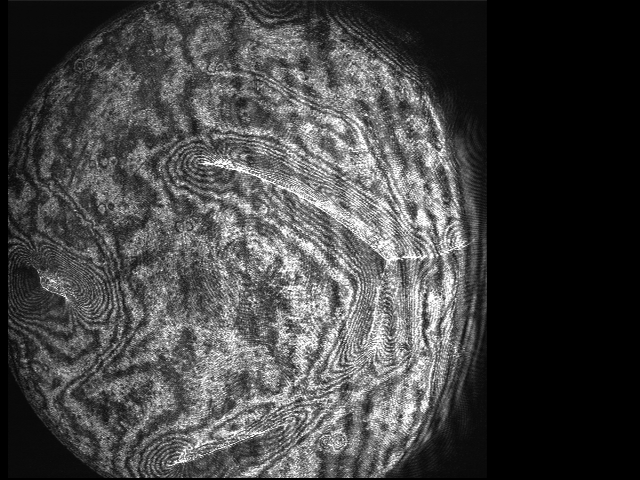plume: (8, 236, 112, 330)
